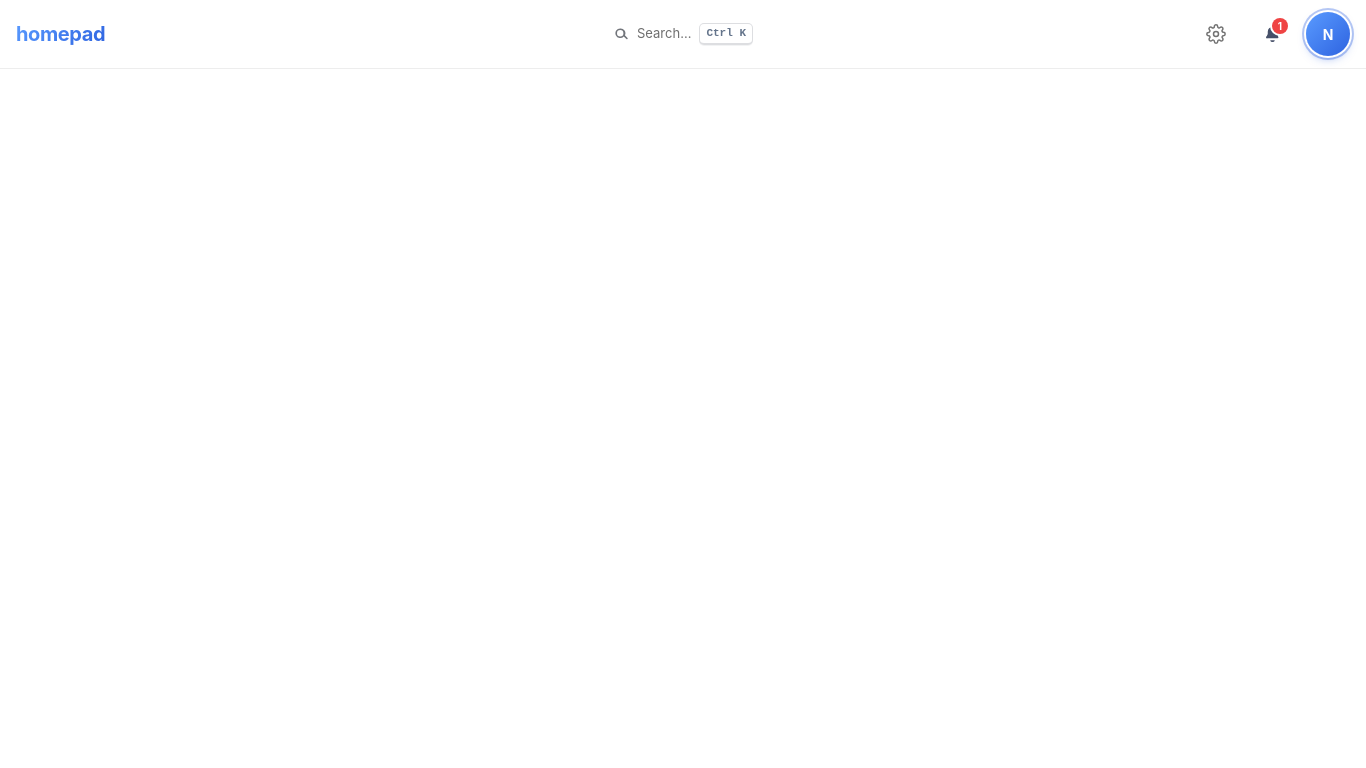
Test: alert history wiring (Home) › AC-009 — Escape closes and returns focus to the bell
Step 1. Click the button with test id "alert-bell" → (1272, 34), box [1250,12,1294,56]
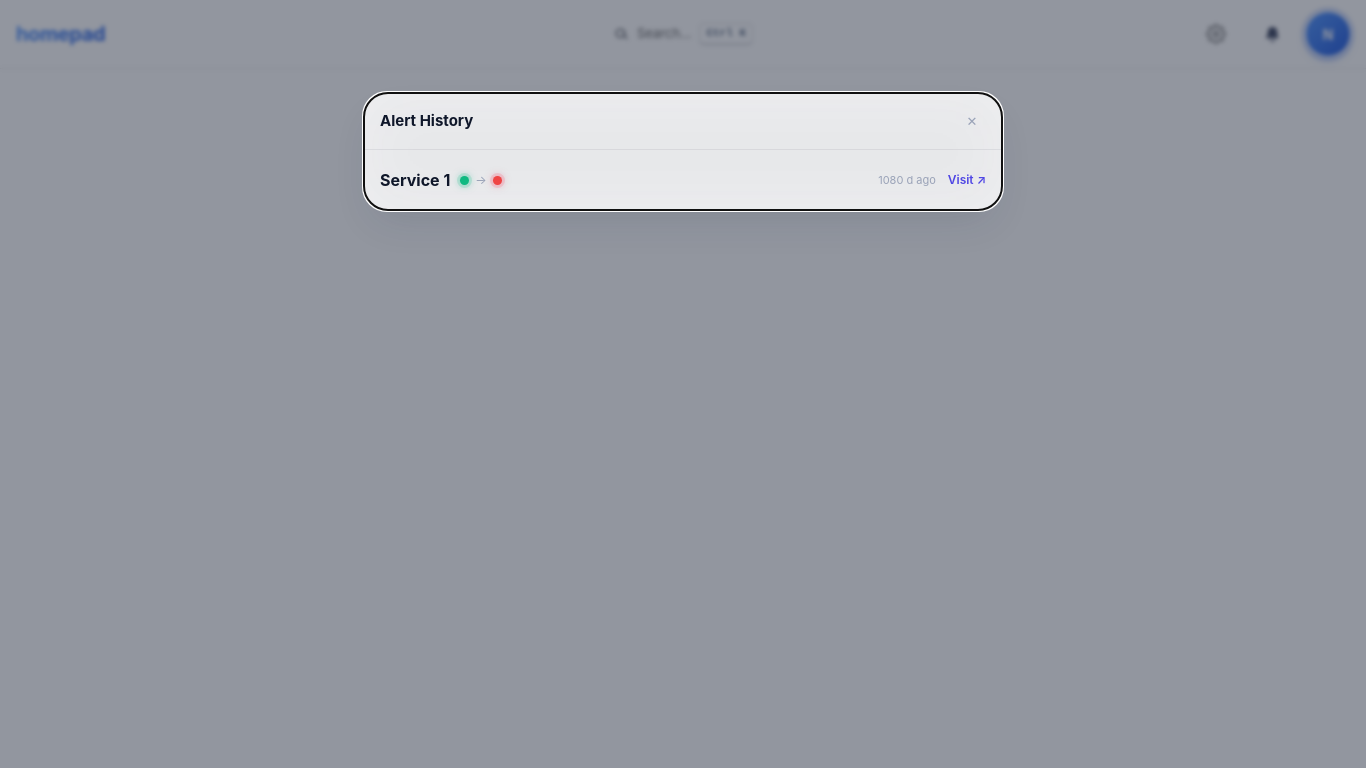
Step 2. Press Escape
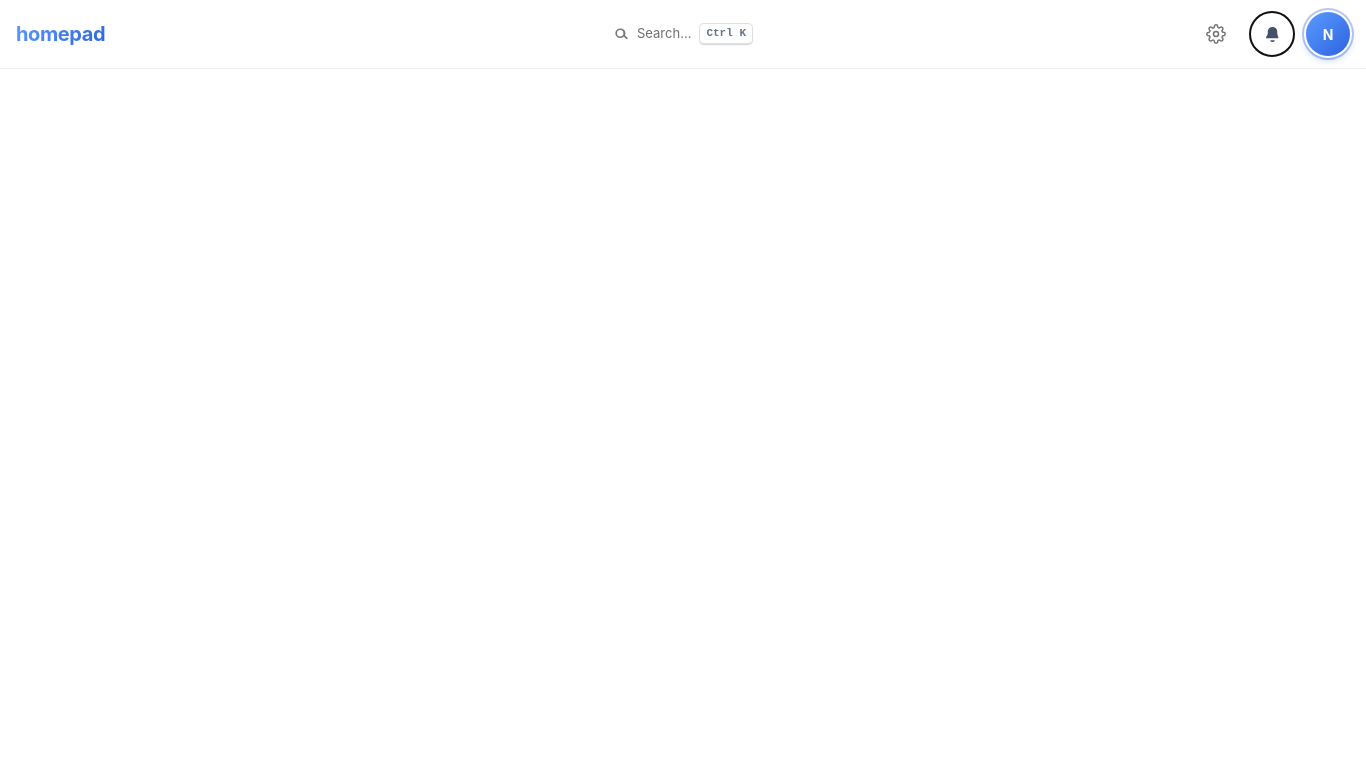
Result: the dialog is gone
